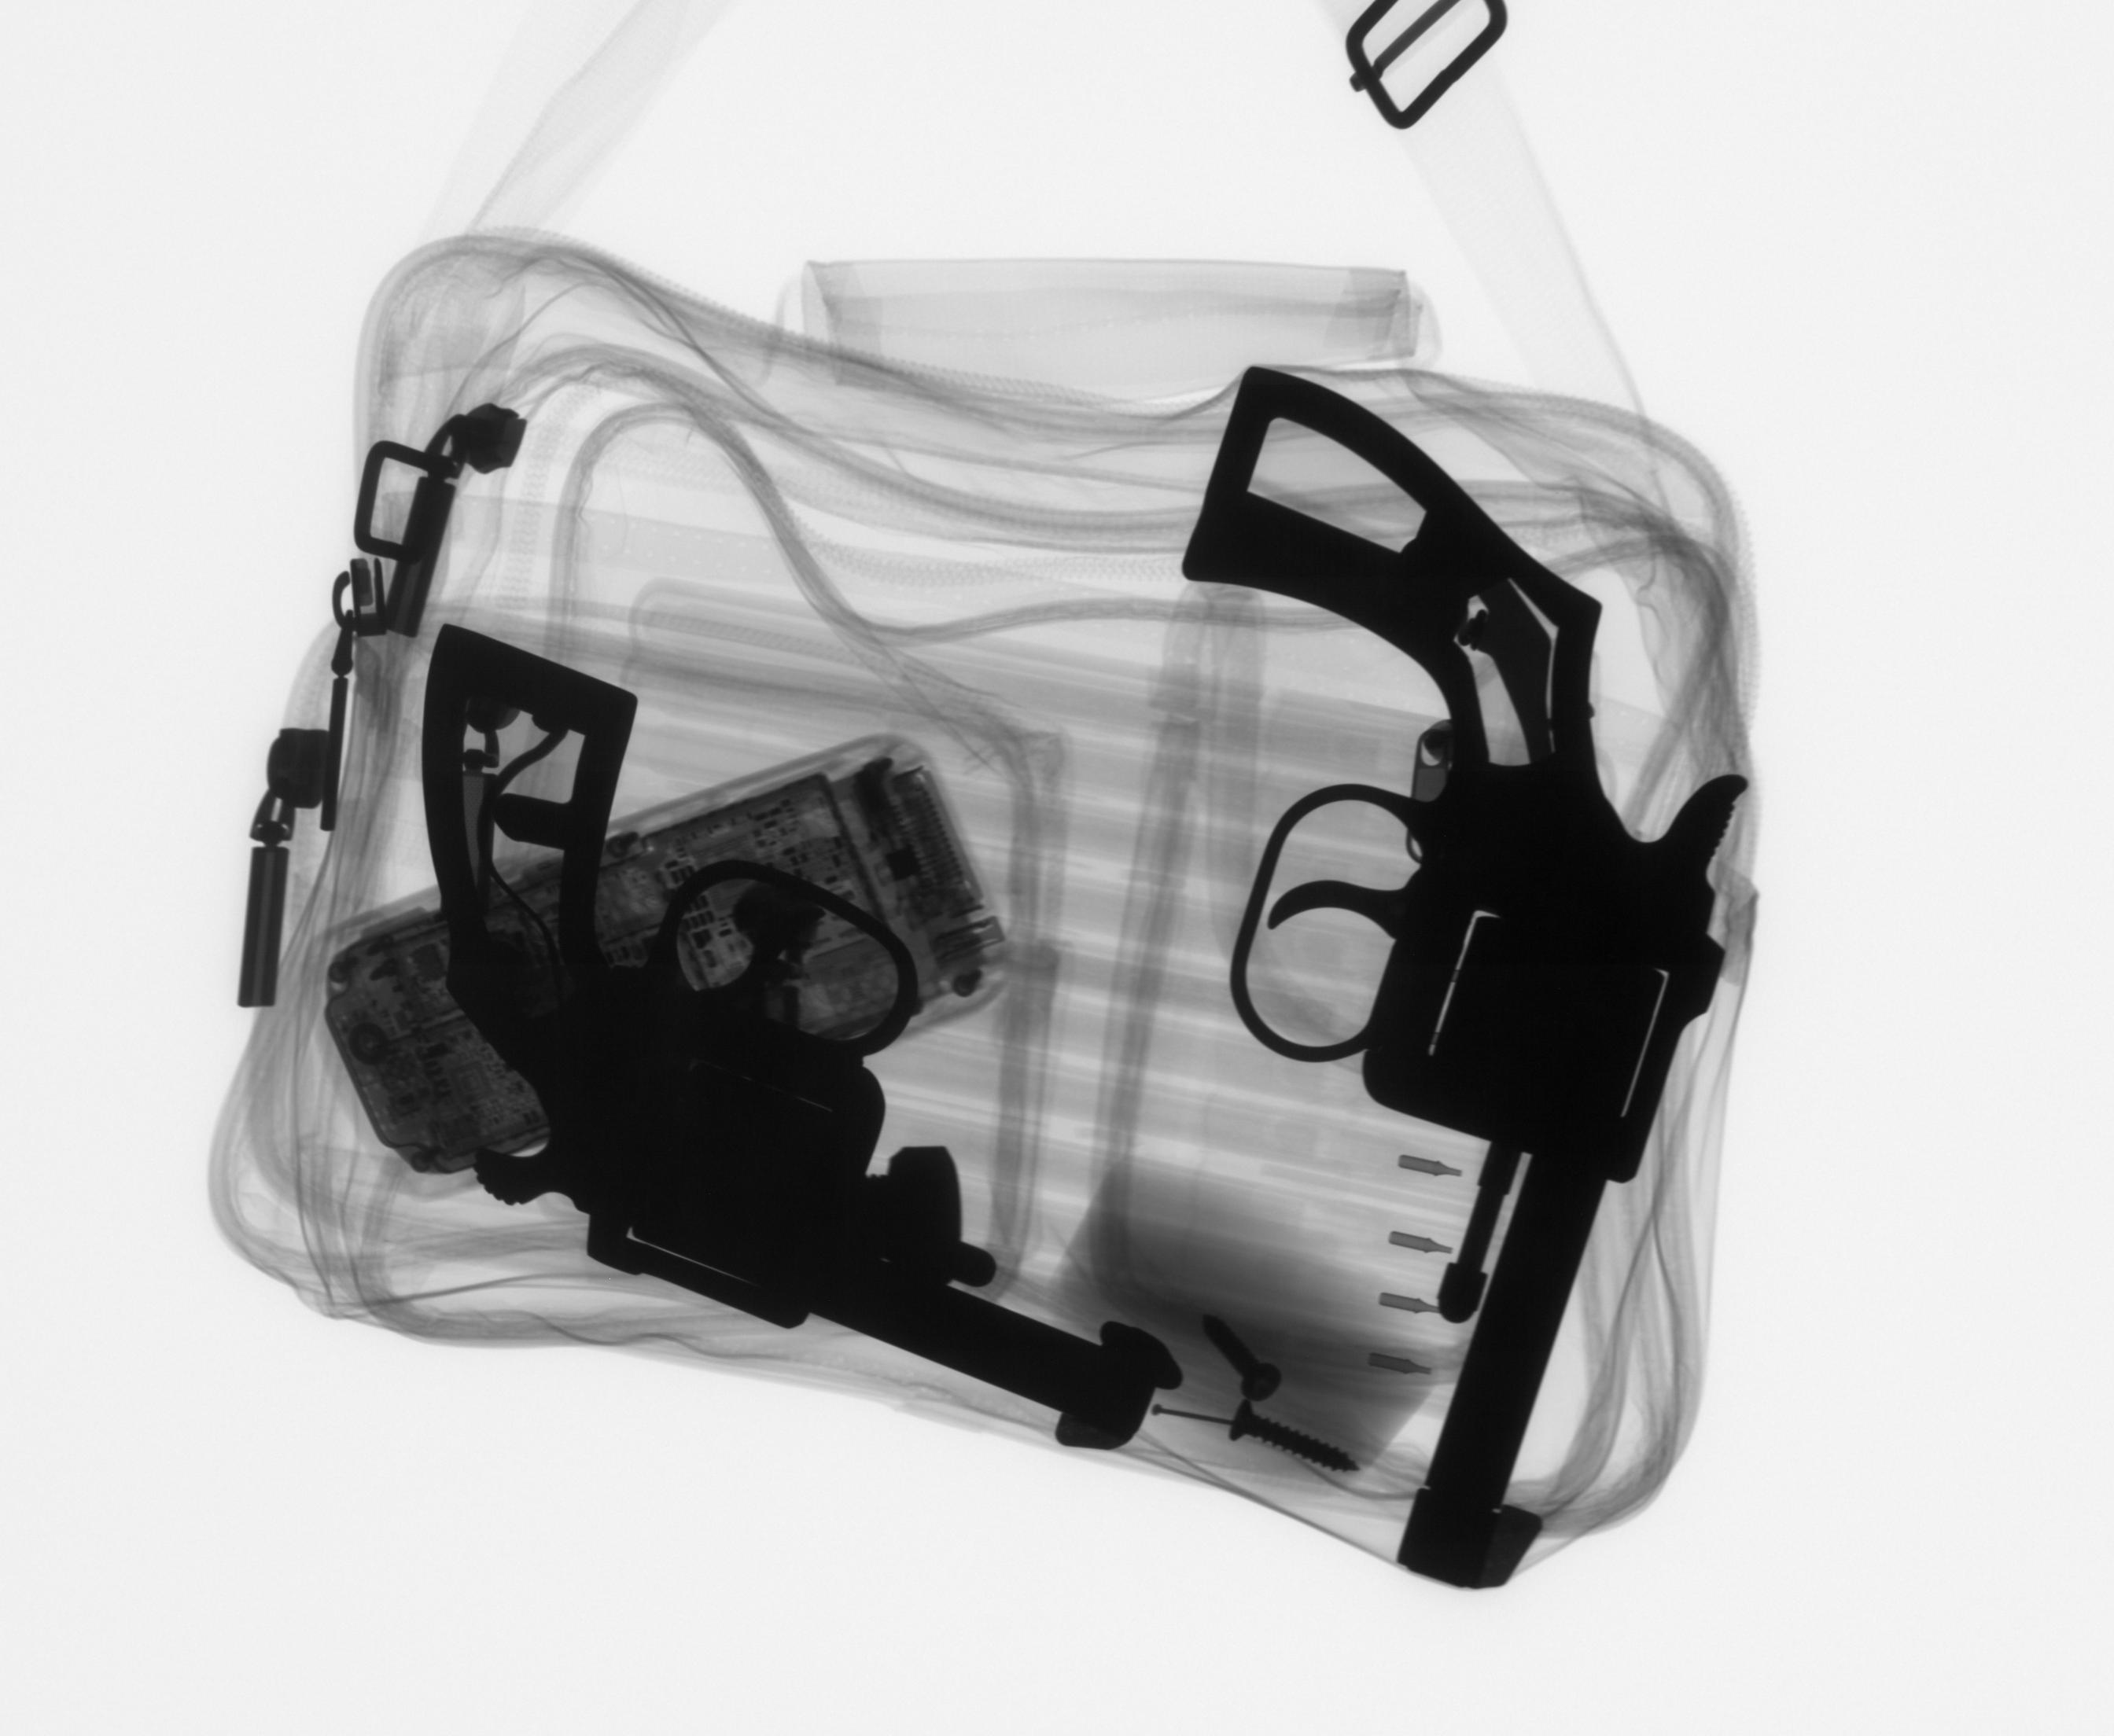Handgun: (1172, 357, 1756, 1595), (411, 612, 1155, 1459)
